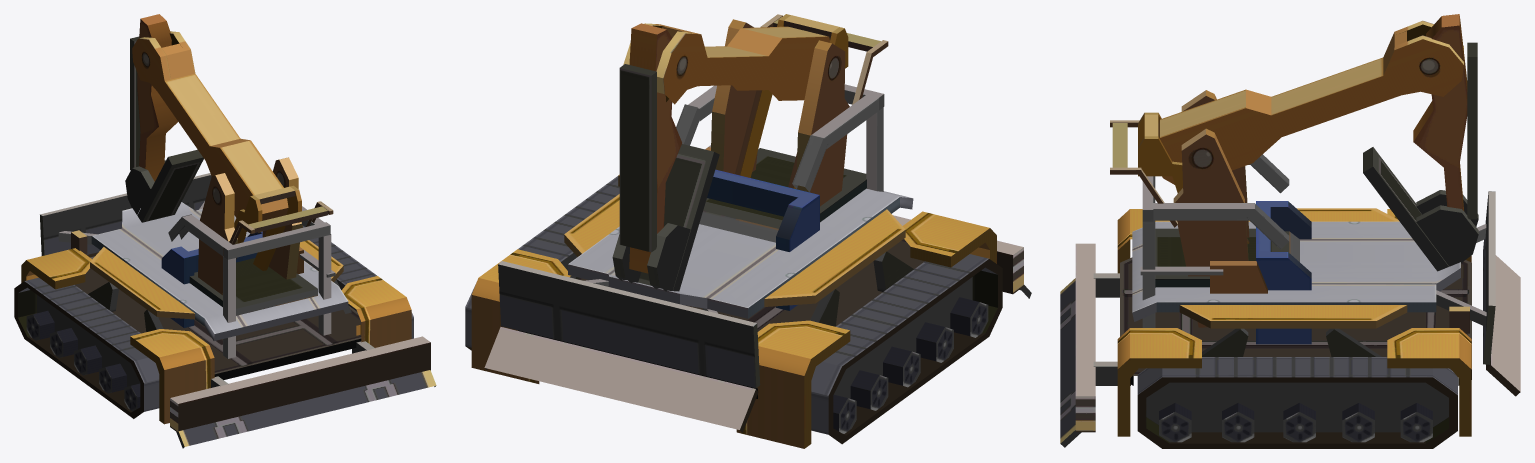
Rendered from trap_167_muruinf1.fbx.
The picture shows the model from 3 angles, left to right: view 1: azimuth 30°, elevation 25°; view 2: azimuth 150°, elevation 25°; view 3: azimuth 270°, elevation 25°; orthographic projection. The views are drawn at different scales.
Parts seen in each view (by area): view 1: trap_167_muruinf1; view 2: trap_167_muruinf1; view 3: trap_167_muruinf1.
Boxes of the visible parts, left/top/right/bottom form: trap_167_muruinf1: left=14, top=14, right=436, bottom=448; trap_167_muruinf1: left=465, top=14, right=1031, bottom=448; trap_167_muruinf1: left=1060, top=14, right=1520, bottom=448.
Size of the model in its own units: 0.8859 by 0.9108 by 1.06.
Materials: 1 (1 with a texture image).
